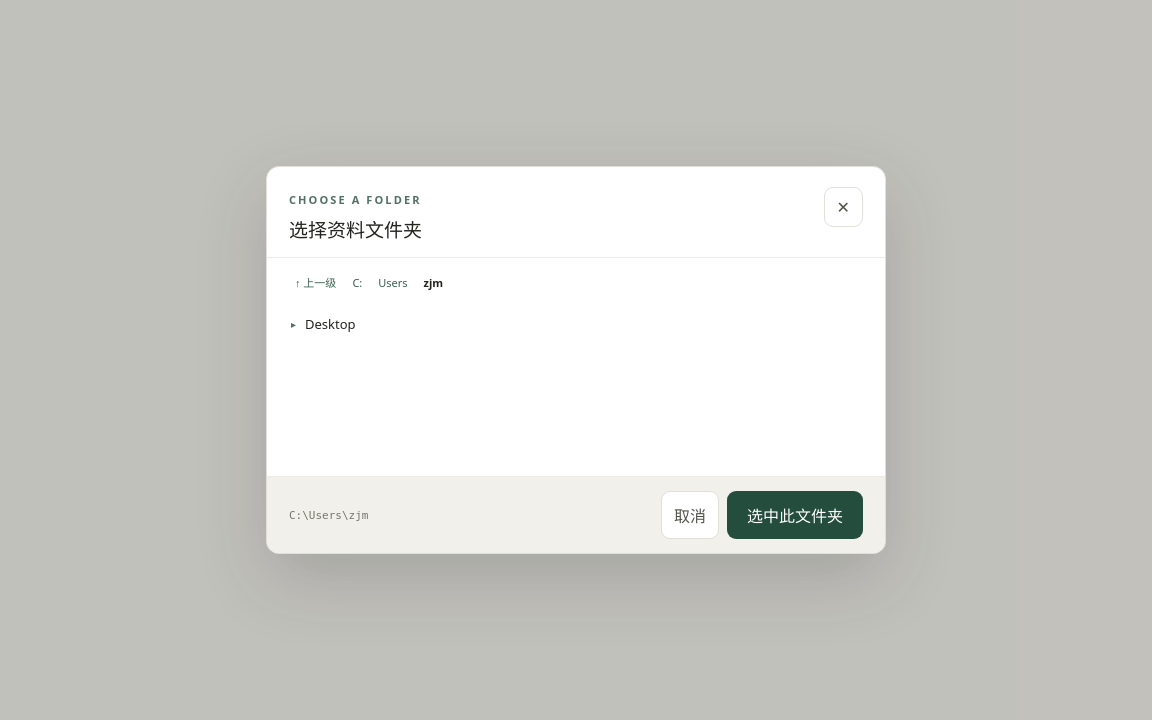
Test: FolderPicker › descends into a subdirectory when it is clicked
The width and height of the screenshot is (1152, 720).
Click the button "▸ Desktop" at (330, 324), box 281,306 -> 871,342
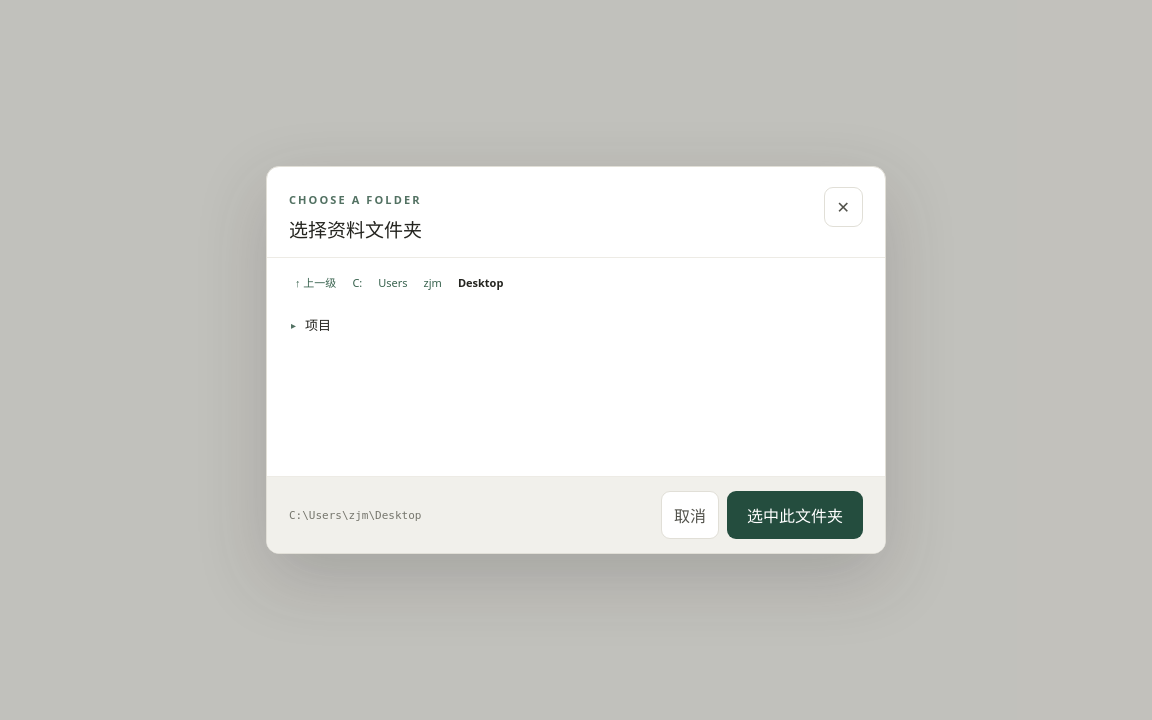
Expected: the button "▸ 项目" is shown, 281,306 -> 871,343
